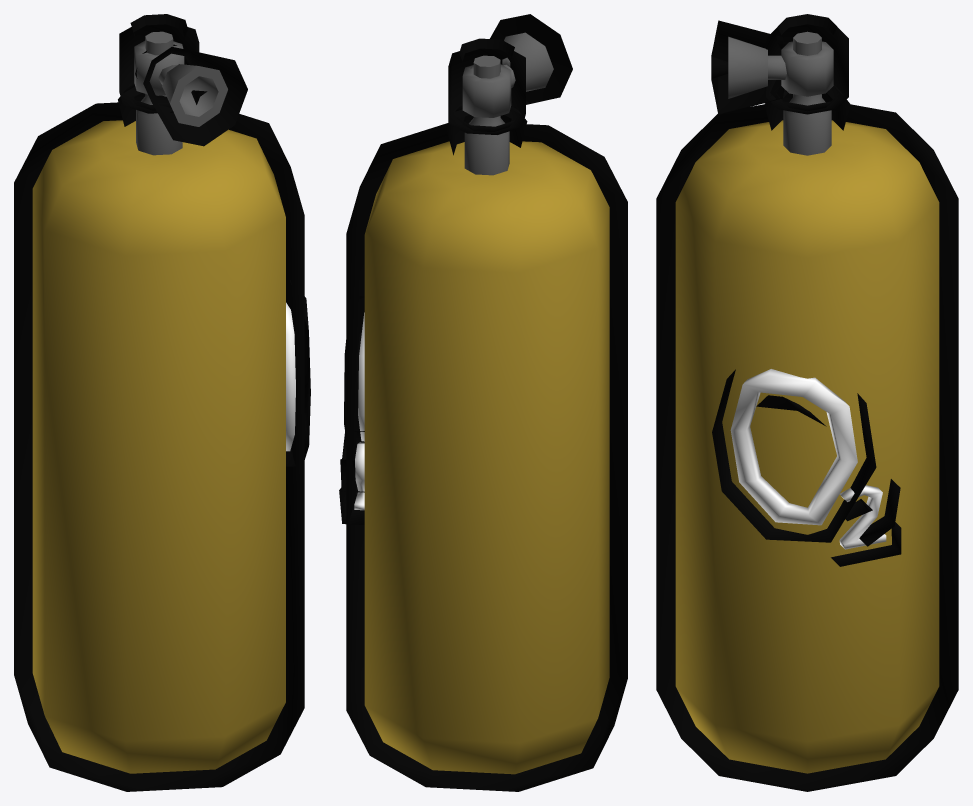
The model's file is Oxygen_Cylinder.fbx.
The picture shows the model from 3 angles, left to right: view 1: azimuth 30°, elevation 25°; view 2: azimuth 150°, elevation 25°; view 3: azimuth 270°, elevation 25°; orthographic projection. The views are drawn at different scales.
Visible parts, largest first — view 1: Cube; view 2: Cube; view 3: Cube.
Boxes of the visible parts, x1,y1,x2,y2 form: Cube: (14, 14, 310, 791); Cube: (339, 14, 627, 791); Cube: (656, 14, 958, 791).
Bounding box in the file's own units: 0.9542 × 0.9176 × 2.48.
